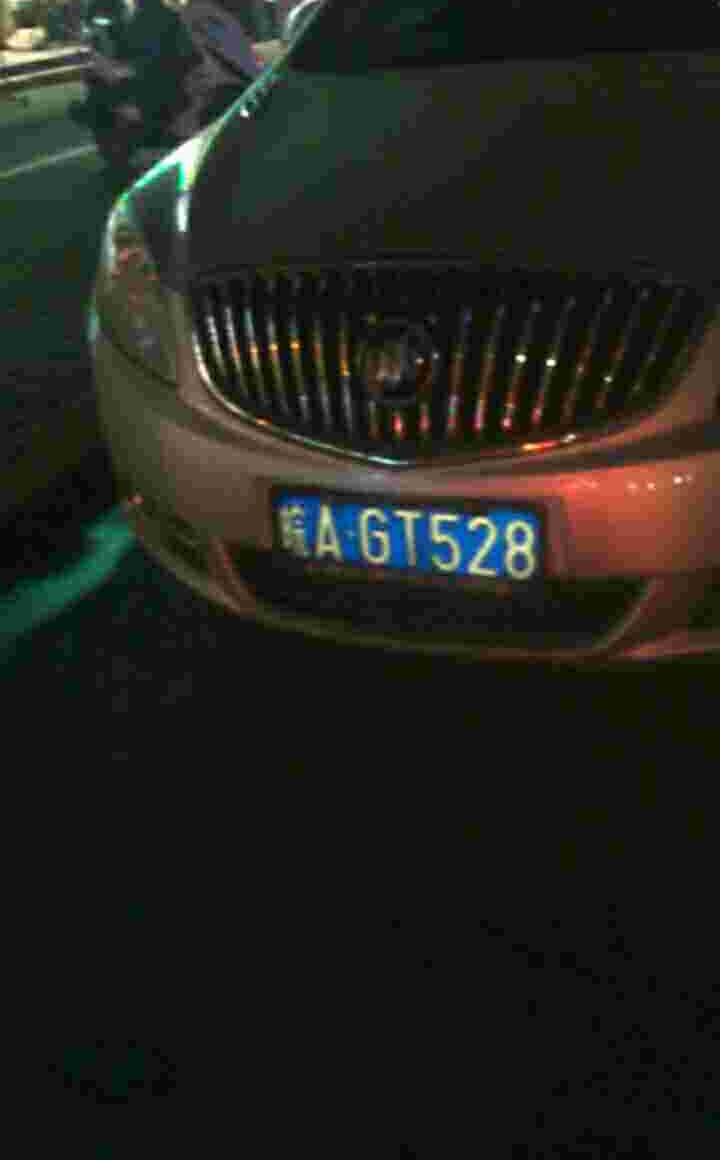license_plate: (276, 500, 547, 583)
